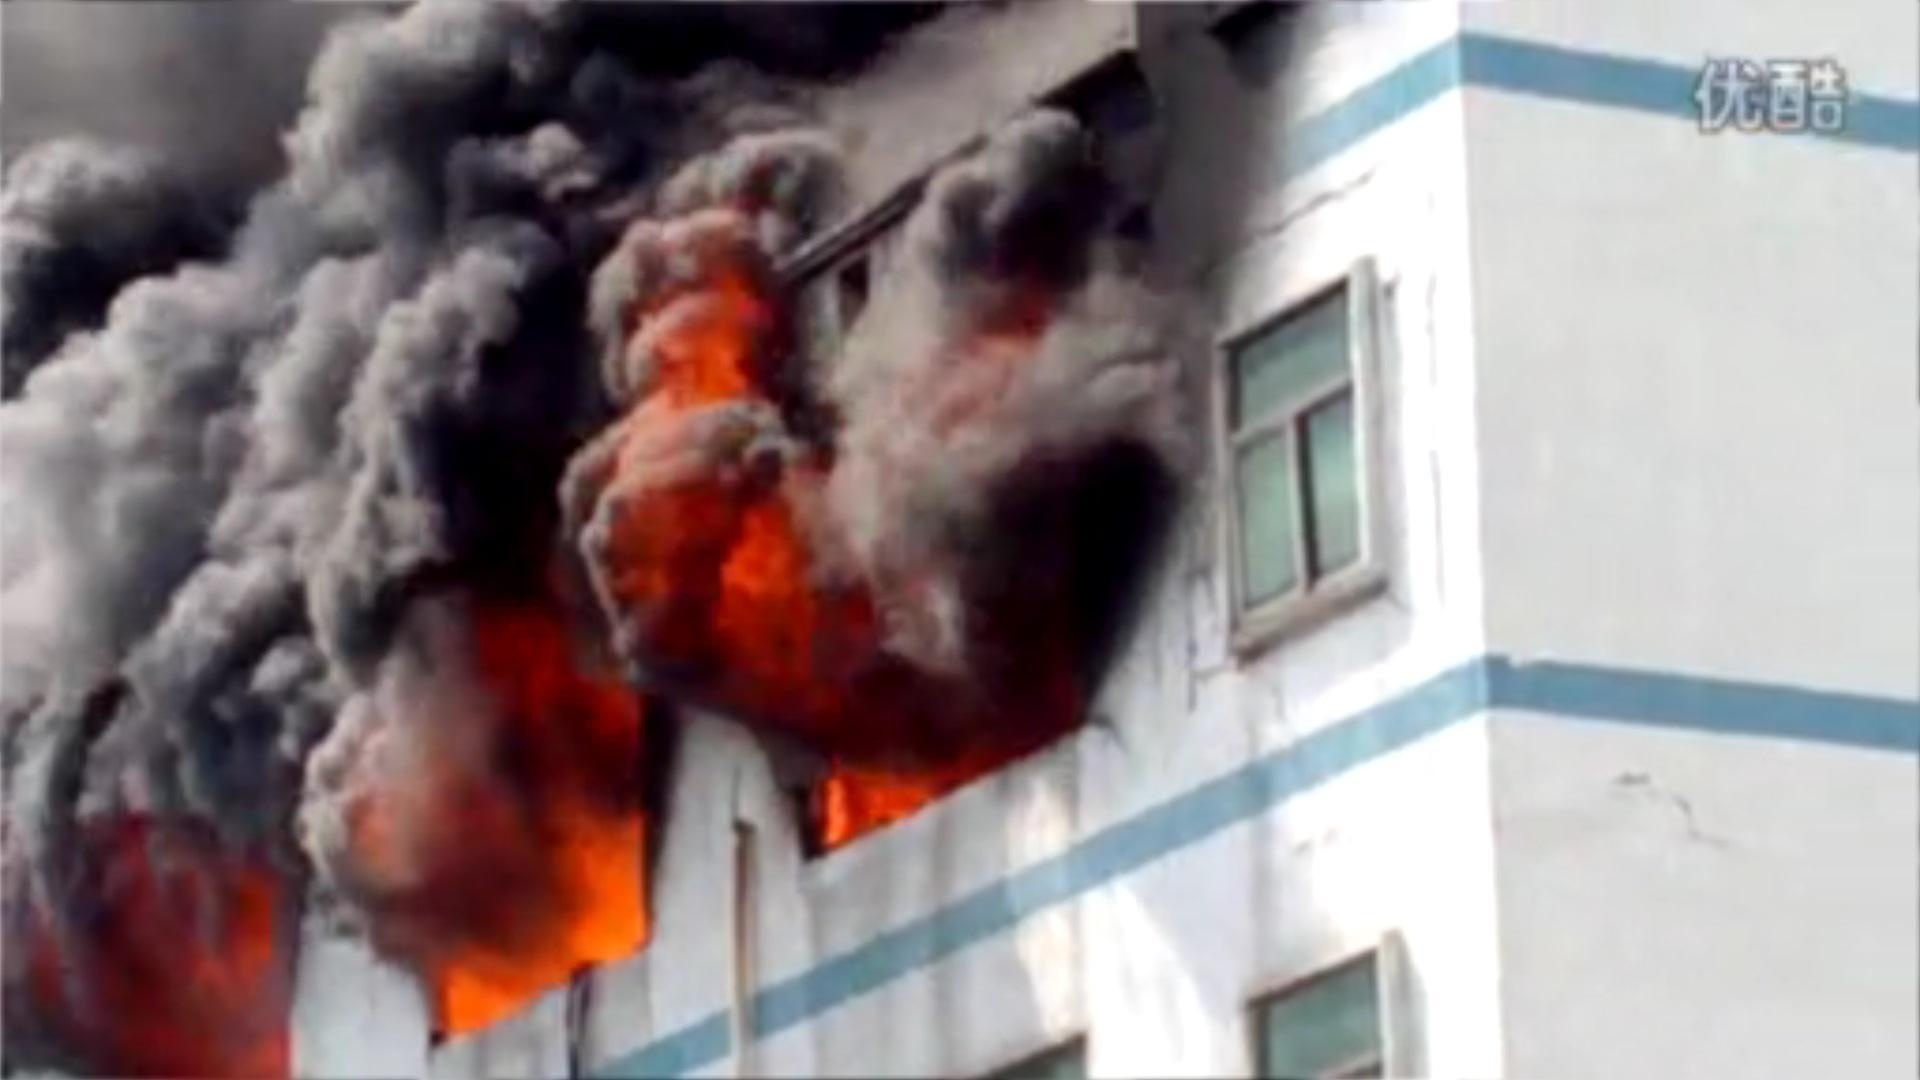fire: (353, 646, 654, 1034), (7, 814, 291, 1063)
